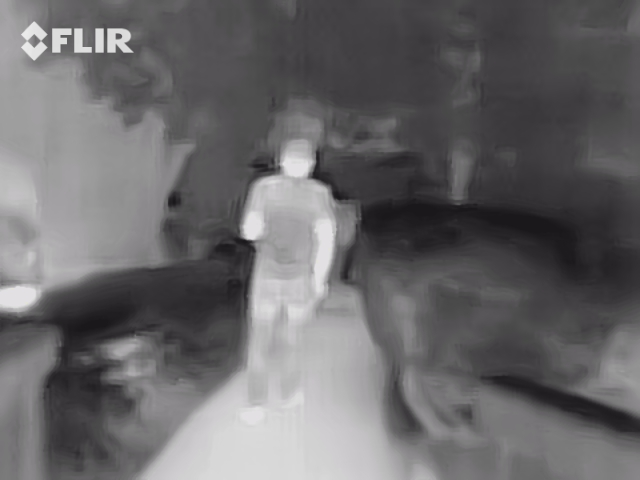head: (277, 137, 319, 177)
